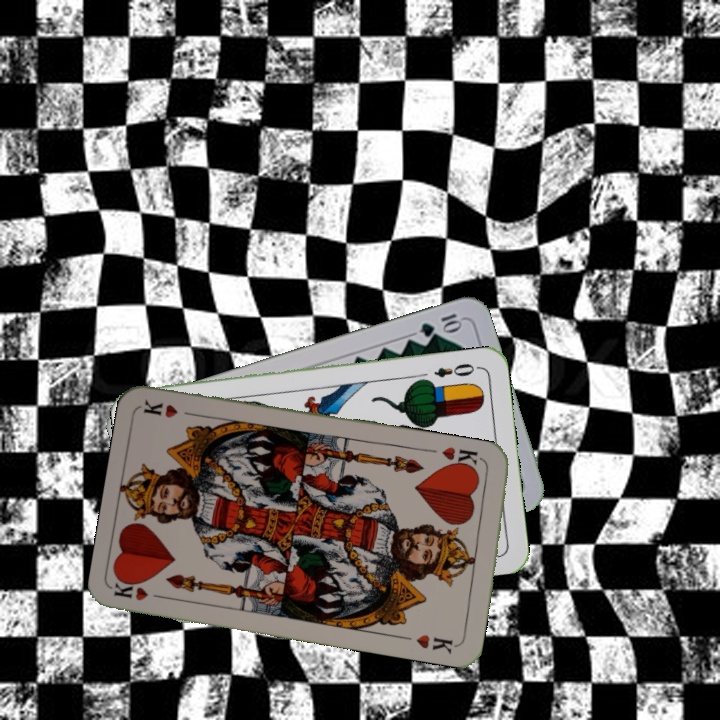EO: (430, 359, 482, 380)
G10: (416, 309, 465, 340)
HK: (111, 575, 170, 604), (438, 443, 488, 474)
